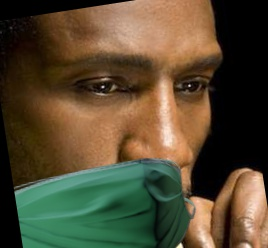good: (0, 0, 248, 248)
